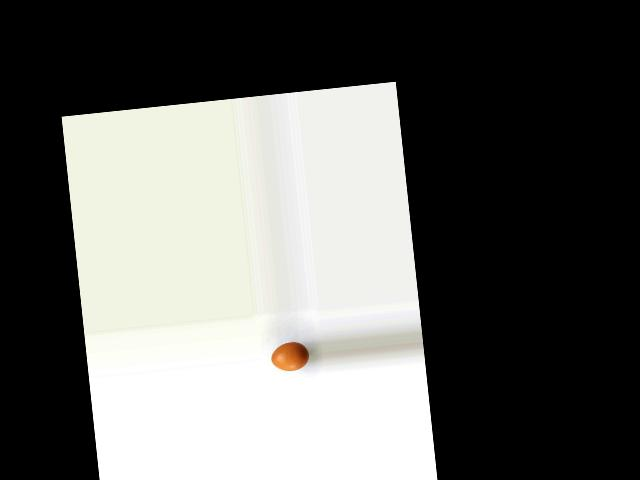egg: (269, 339, 310, 372)
